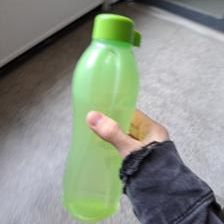bottle: (59, 10, 145, 223)
